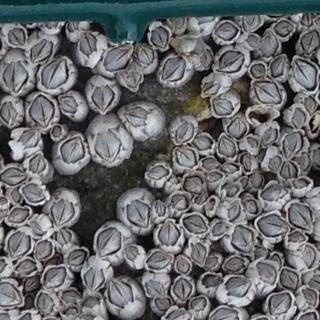Barnacle: (94, 127, 122, 165), (96, 226, 124, 258), (40, 58, 69, 87), (108, 278, 134, 310), (257, 253, 283, 285), (28, 94, 53, 127), (257, 214, 288, 239), (3, 61, 27, 93), (104, 44, 132, 71), (127, 198, 151, 229), (294, 59, 317, 91), (60, 136, 86, 163), (52, 198, 77, 226), (289, 202, 313, 231), (231, 225, 254, 253), (0, 281, 24, 307), (255, 81, 281, 105), (93, 84, 115, 112), (218, 48, 243, 72), (9, 231, 29, 260), (159, 219, 181, 245), (86, 264, 105, 293), (283, 133, 303, 160), (29, 39, 52, 62), (146, 252, 172, 272), (261, 29, 279, 57), (226, 277, 251, 297), (269, 293, 291, 315), (300, 31, 320, 55), (125, 108, 150, 127), (23, 181, 44, 203), (164, 58, 184, 81), (43, 267, 65, 287), (174, 149, 196, 169), (18, 129, 40, 149), (184, 215, 207, 234), (0, 169, 27, 185), (215, 22, 239, 40), (80, 32, 97, 57), (173, 279, 192, 301), (262, 185, 288, 201), (0, 101, 16, 127), (282, 270, 300, 292), (184, 176, 203, 196), (28, 156, 47, 176), (175, 122, 193, 143), (144, 279, 166, 296), (210, 308, 241, 320), (211, 100, 234, 116), (242, 11, 261, 30), (36, 239, 54, 259), (292, 107, 307, 131), (15, 259, 36, 276), (37, 293, 53, 315), (126, 69, 142, 91), (270, 56, 286, 78), (273, 21, 295, 37), (192, 242, 207, 265), (280, 162, 298, 181), (228, 120, 245, 140), (60, 94, 77, 114), (9, 25, 26, 45), (79, 295, 100, 311), (218, 139, 236, 157), (152, 25, 167, 46), (171, 193, 189, 210), (301, 288, 317, 307), (26, 274, 42, 293), (68, 250, 87, 266), (262, 128, 278, 147), (137, 46, 153, 65), (148, 165, 169, 179), (191, 136, 212, 150), (296, 153, 310, 173), (225, 258, 246, 271), (268, 152, 281, 173), (54, 229, 70, 246), (211, 222, 229, 237), (202, 80, 221, 94), (302, 244, 314, 266), (10, 209, 30, 222), (30, 220, 45, 237), (168, 16, 185, 31), (195, 15, 216, 27), (125, 246, 140, 262), (229, 201, 241, 221), (251, 63, 266, 79), (202, 274, 219, 288), (166, 311, 192, 320), (221, 163, 240, 175), (177, 259, 192, 274), (61, 289, 78, 302), (240, 154, 251, 174), (309, 113, 320, 133), (244, 200, 258, 215), (191, 298, 207, 311), (288, 232, 305, 244), (251, 173, 263, 189), (206, 171, 222, 183), (155, 299, 172, 310), (309, 274, 320, 291), (306, 95, 316, 113), (203, 158, 219, 169), (155, 202, 166, 217), (223, 184, 238, 195), (201, 51, 212, 66), (246, 35, 259, 47), (67, 20, 79, 33), (301, 12, 313, 25), (61, 306, 76, 316), (293, 178, 308, 188), (41, 21, 57, 30), (205, 256, 218, 267), (50, 125, 61, 138), (11, 189, 21, 203), (195, 194, 208, 204), (314, 149, 320, 169), (247, 138, 259, 148), (259, 148, 267, 162), (208, 198, 216, 211), (240, 177, 249, 188), (0, 198, 5, 206)
